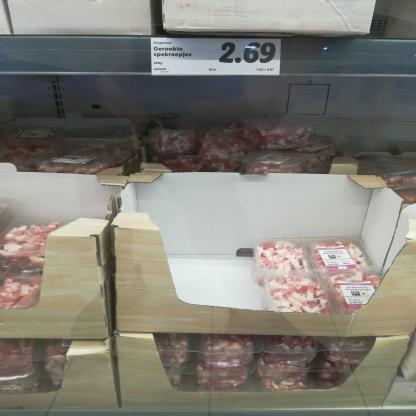prtg: (152, 39, 283, 77)
